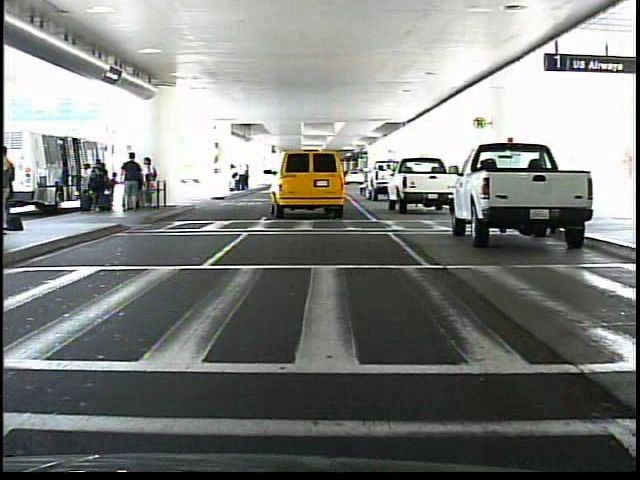person: (3, 144, 24, 230)
